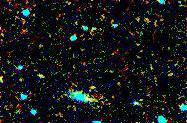star: (77, 72, 107, 102)
